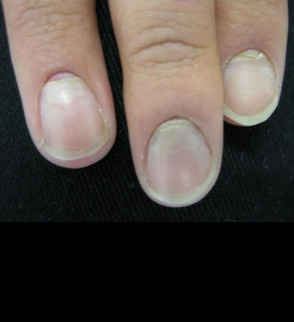SJS-TEN: (112, 92, 242, 227), (22, 50, 129, 171), (219, 27, 288, 140)
